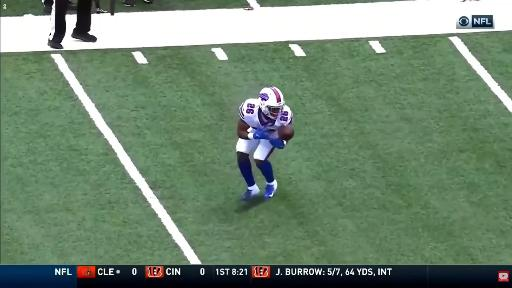Helmet: (260, 87, 284, 119)
Jersey: (239, 99, 293, 131)
Player: (237, 87, 293, 200)
